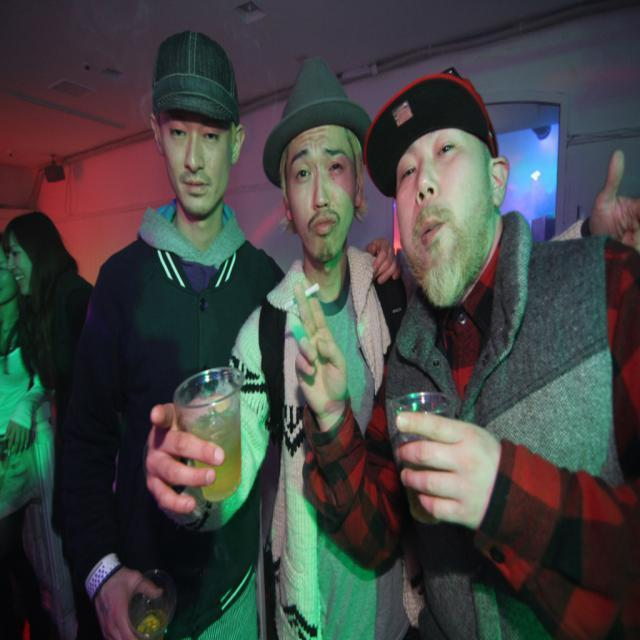closed-mouth: (414, 216, 451, 244), (182, 175, 211, 195), (311, 216, 336, 232)
